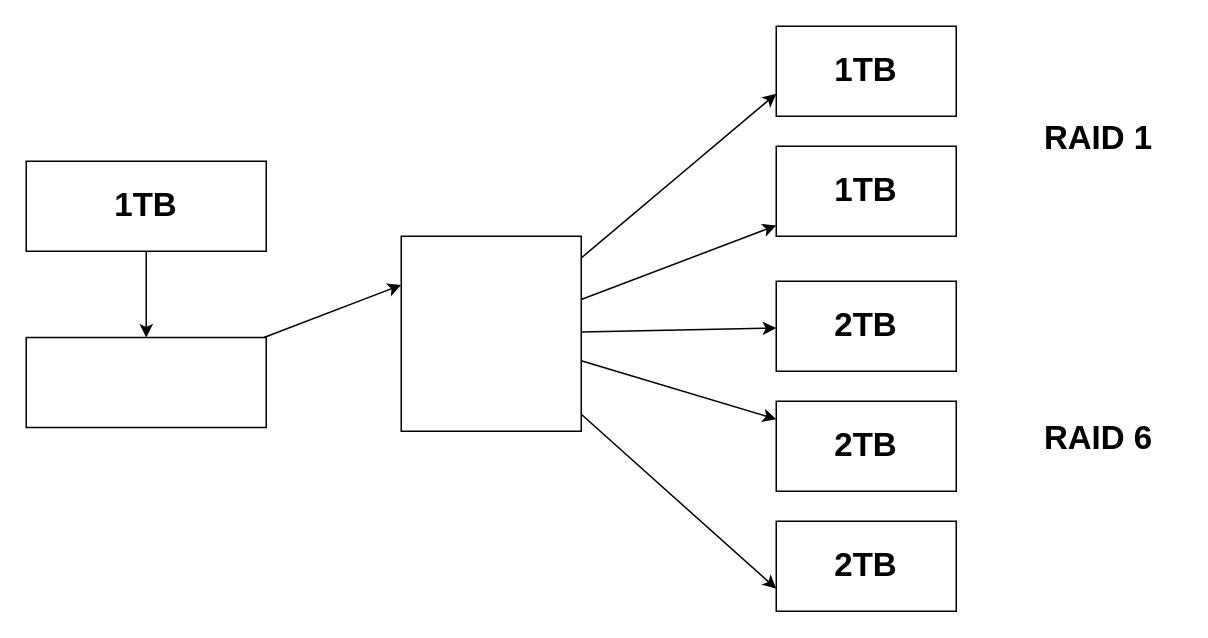
Image size: 1208x638. Some labels were removed from this diagram. The shapes that lost their labels are listed below. From the top down, each one's centre as x and y in pixels, then its label:
At (490,333): "RAID Controller".
At (145,382): "4TB".
